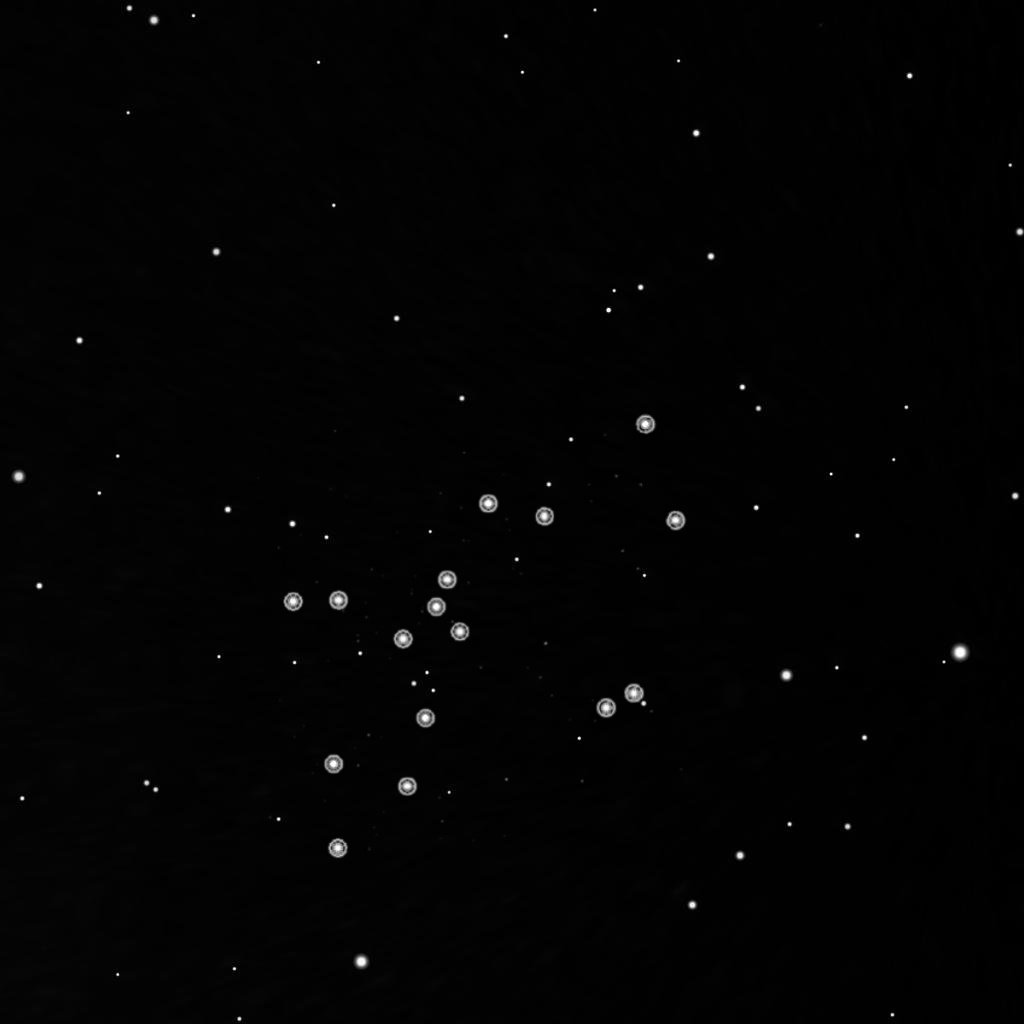canis_major: (386, 489, 558, 656)
